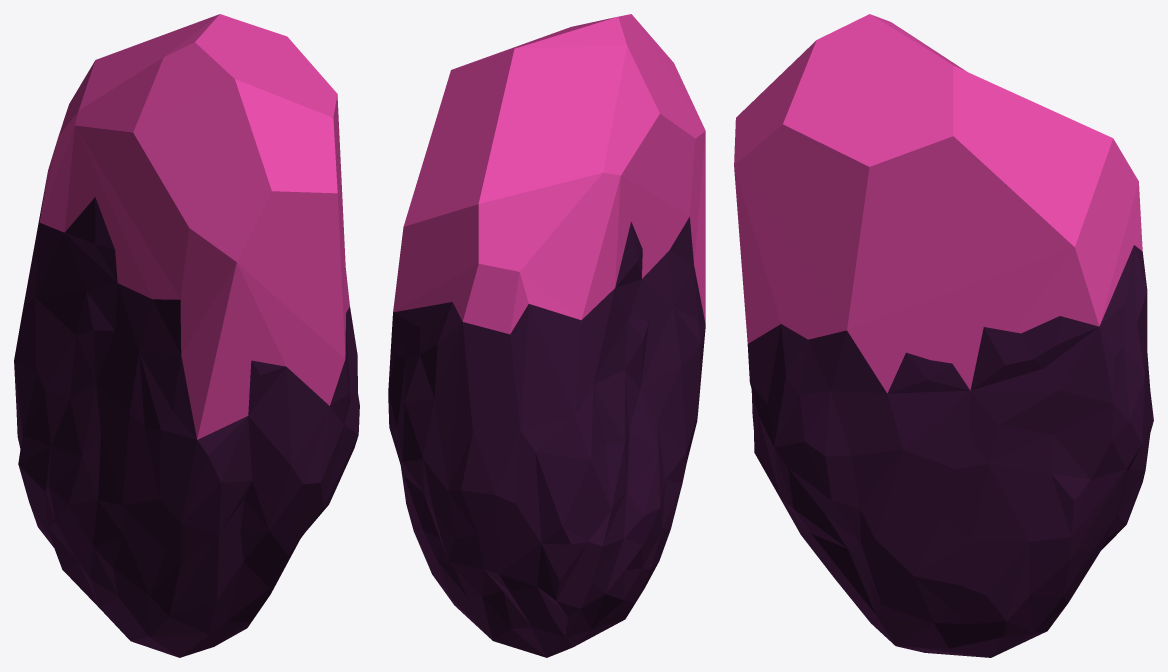
Rendered from stone-v2.fbx.
3 views of the same model, side by side, from view 1: azimuth 30°, elevation 25°; view 2: azimuth 150°, elevation 25°; view 3: azimuth 270°, elevation 25° (orthographic). The views are drawn at different scales.
Parts seen in each view (by area): view 1: Cube.002; view 2: Cube.002; view 3: Cube.002.
Part boxes in pixels (x1=…): Cube.002: x1=14, y1=14, x2=359, y2=657; Cube.002: x1=388, y1=14, x2=705, y2=657; Cube.002: x1=734, y1=14, x2=1153, y2=657.
Bounding box in the file's own units: 166 × 438 × 268.
